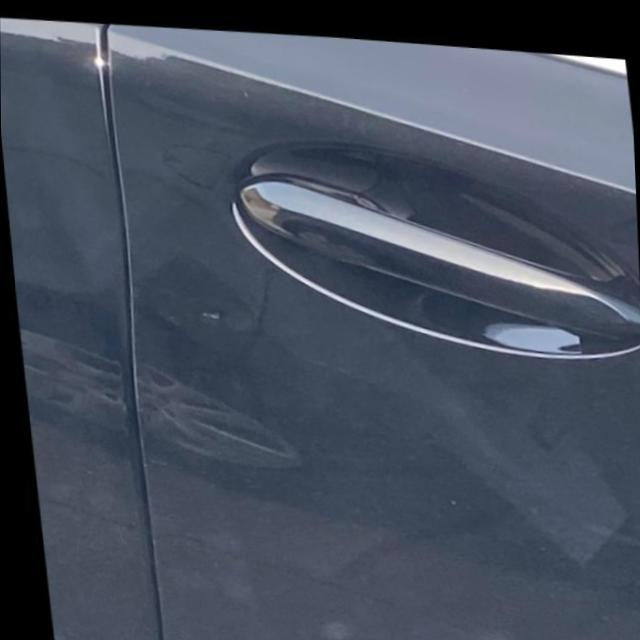Dent: (150, 264, 282, 364)
